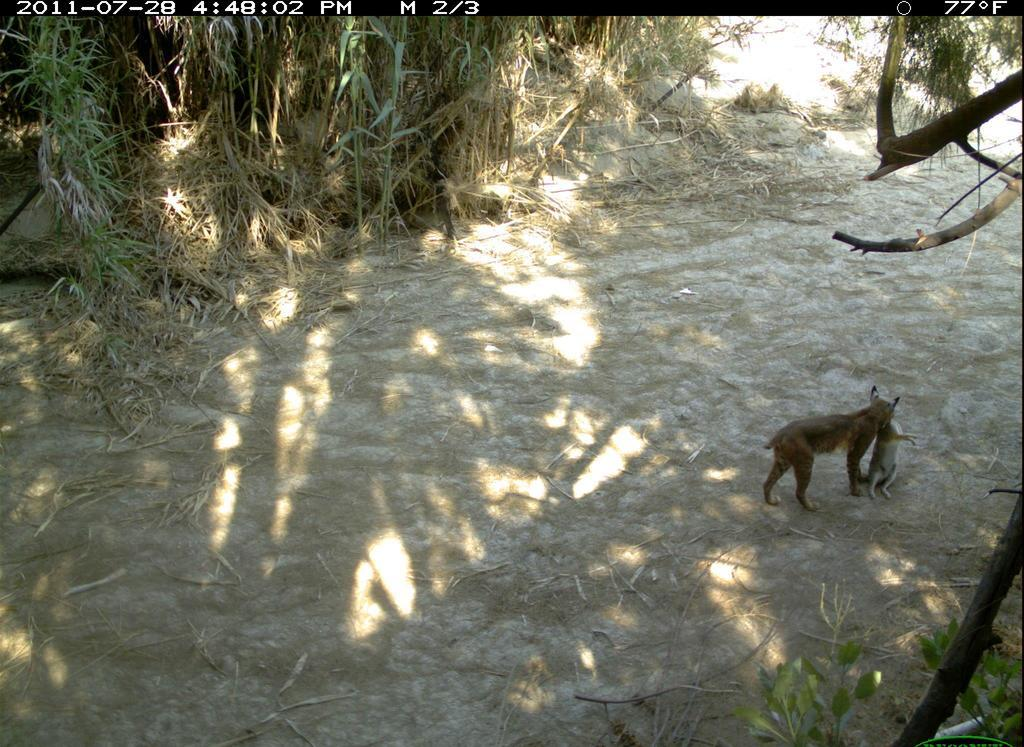rabbit: (858, 416, 921, 501)
